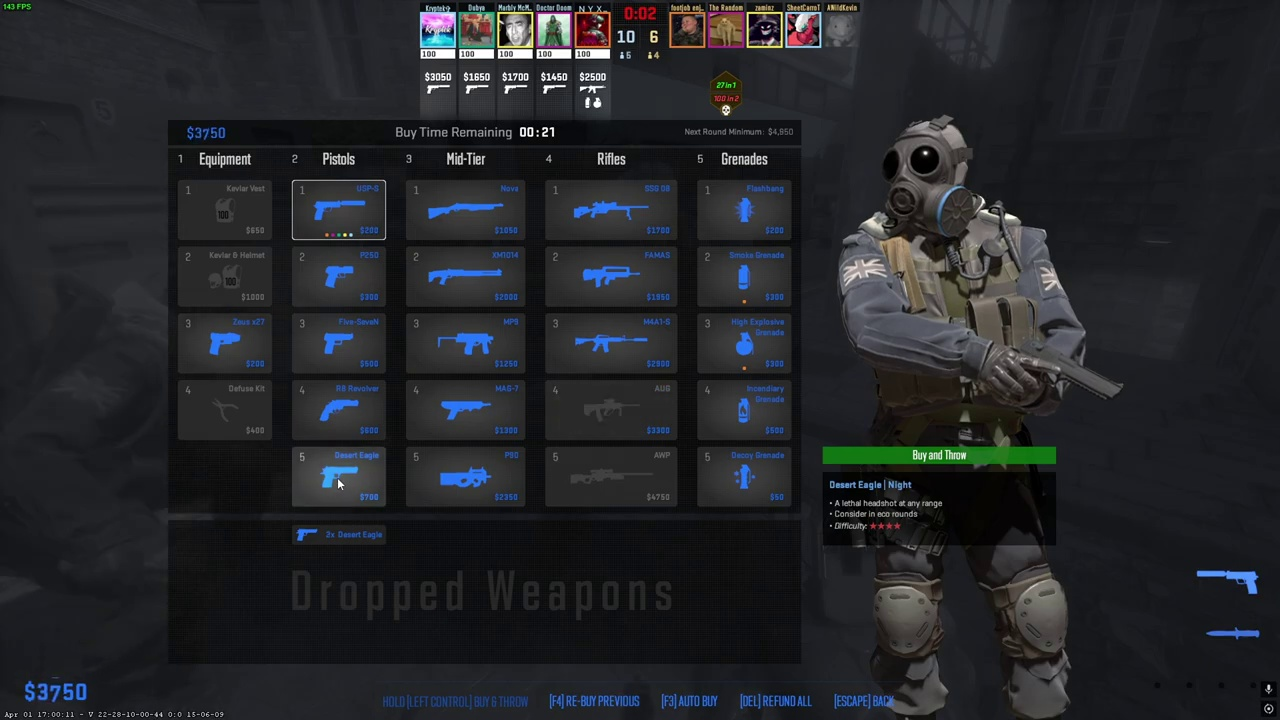CT: (855, 122, 1082, 720)
